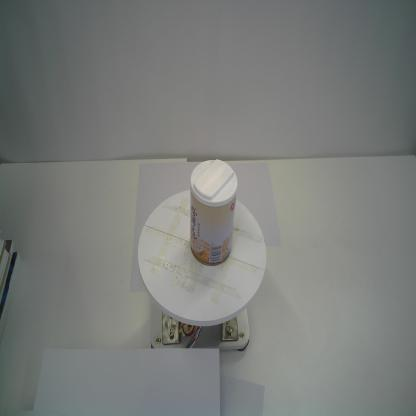Canned Food: (188, 155, 239, 270)
